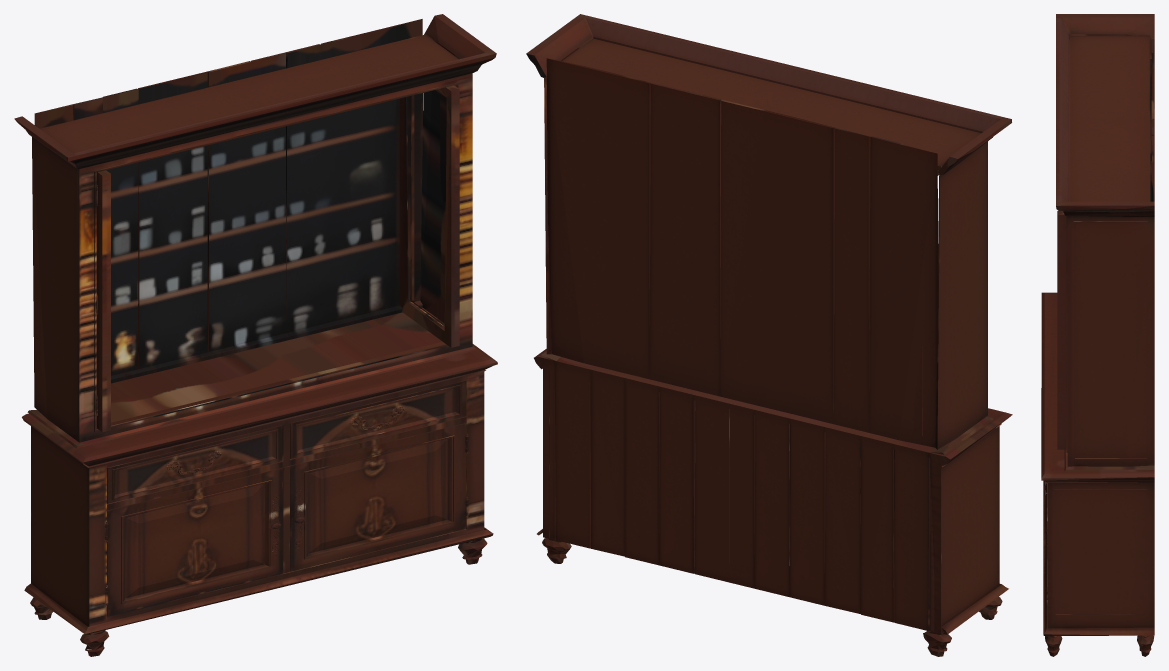
The model's file is edited_mesh.glb.
3 renders of one model, left to right at view 1: azimuth 30°, elevation 25°; view 2: azimuth 150°, elevation 25°; view 3: azimuth 270°, elevation 25°, orthographic. The views are drawn at different scales.
Visible parts, largest first — view 1: solid_001_wire; view 2: solid_001_wire; view 3: solid_001_wire.
Part boxes in pixels (x1,y1,x2,y2): solid_001_wire: (14,14,497,656); solid_001_wire: (526,14,1012,656); solid_001_wire: (1041,14,1154,656).
Size of the model in its own units: 1.23 by 1.38 by 0.3083.
Materials: 1 (1 with a texture image).
